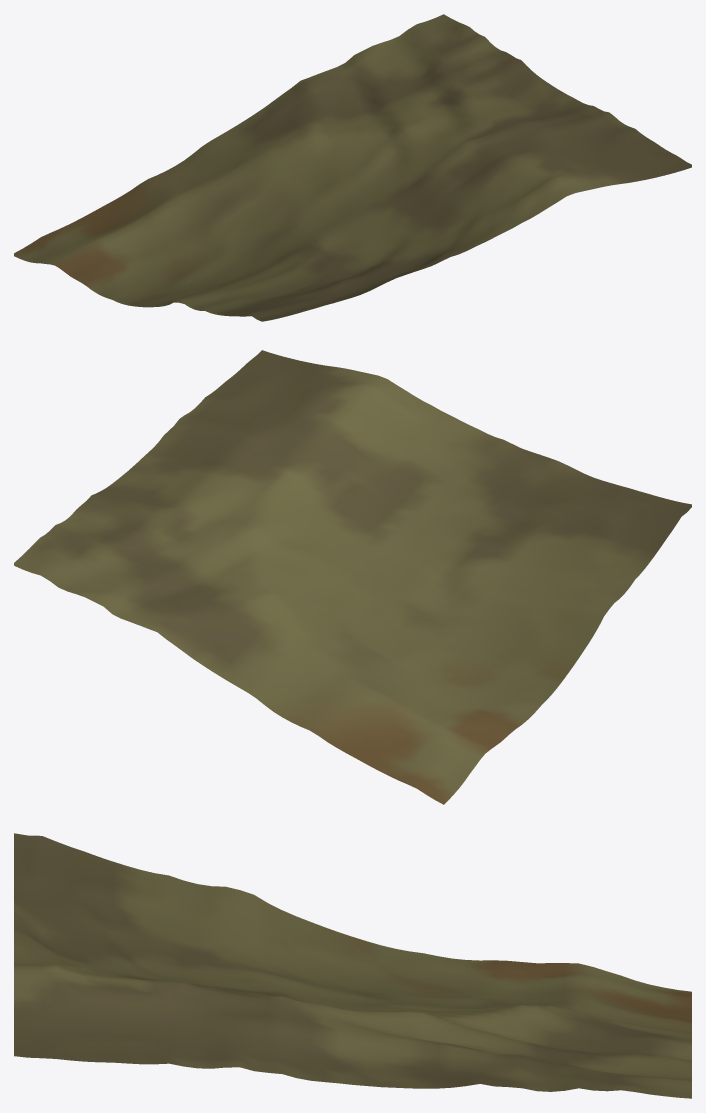
Rendered from land_m_09_09.glb.
The picture shows the model from 3 angles, top to bottom: view 1: azimuth 30°, elevation 25°; view 2: azimuth 150°, elevation 25°; view 3: azimuth 270°, elevation 25°; orthographic projection. The views are drawn at different scales.
Visible parts, largest first — view 1: land_m_09_09; view 2: land_m_09_09; view 3: land_m_09_09.
Part boxes in pixels (x1,y1,x2,y2): land_m_09_09: [14, 14, 691, 321]; land_m_09_09: [14, 350, 691, 804]; land_m_09_09: [14, 833, 691, 1098].
Size of the model in its own units: 960 by 367 by 960.
